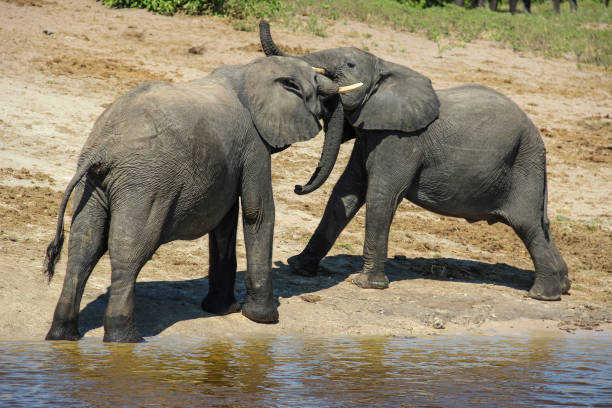africanelephant: (258, 61, 347, 192)
